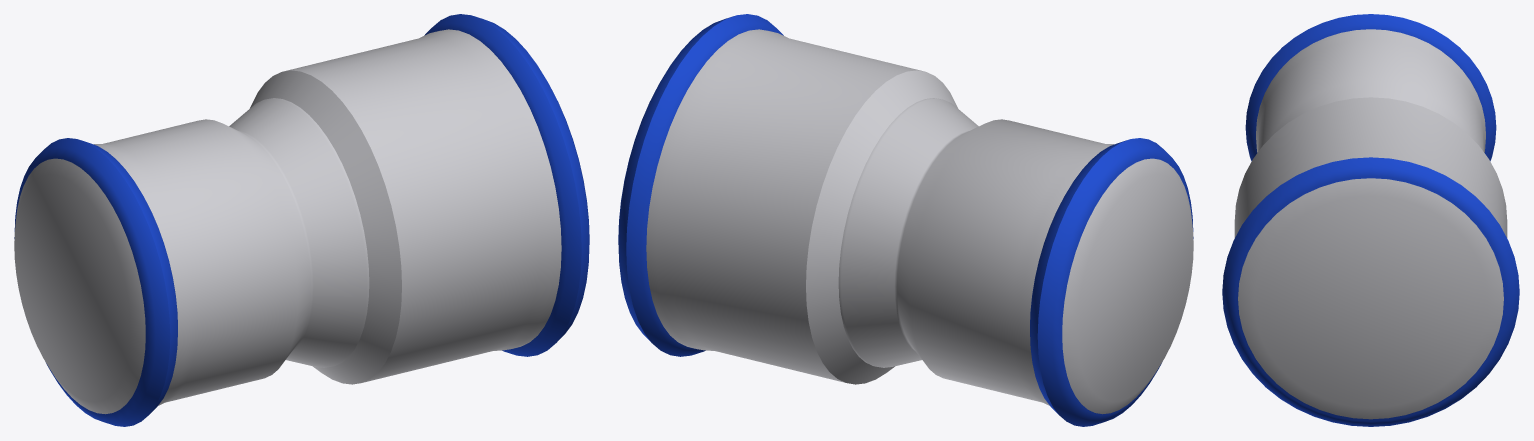
Rendered from fitting_cp_42x35.glb.
The picture shows the model from 3 angles, left to right: view 1: azimuth 30°, elevation 25°; view 2: azimuth 150°, elevation 25°; view 3: azimuth 270°, elevation 25°; orthographic projection. The views are drawn at different scales.
Parts seen in each view (by area): view 1: муфта, кольцо пресс, кольцо пресс.001; view 2: муфта, кольцо пресс, кольцо пресс.001; view 3: муфта, кольцо пресс.001, кольцо пресс.
Part boxes in pixels (x1,y1,x2,y2): муфта: (14, 29, 561, 414); кольцо пресс: (14, 138, 177, 426); кольцо пресс.001: (424, 14, 589, 356); муфта: (646, 29, 1193, 414); кольцо пресс: (1030, 138, 1193, 426); кольцо пресс.001: (618, 14, 783, 356); муфта: (1234, 29, 1507, 419); кольцо пресс.001: (1222, 157, 1519, 426); кольцо пресс: (1245, 14, 1496, 161).
Bounding box in the file's own units: 0.084 × 0.0573 × 0.0573.
